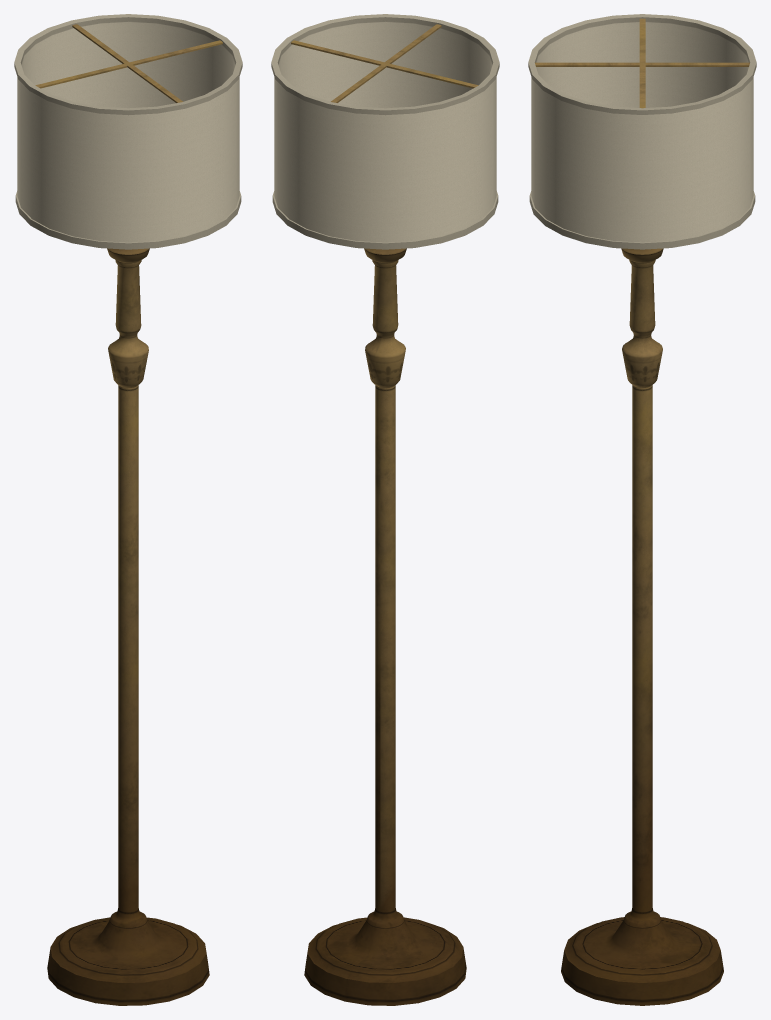
The model's file is LightFloorRetro02.FBX.
3 renders of one model, left to right at view 1: azimuth 30°, elevation 25°; view 2: azimuth 150°, elevation 25°; view 3: azimuth 270°, elevation 25°, orthographic.
Parts seen in each view (by area): view 1: LightFloorRetro02; view 2: LightFloorRetro02; view 3: LightFloorRetro02.
Part boxes in pixels (left/top/right/bottom): LightFloorRetro02: left=14, top=14, right=242, bottom=1005; LightFloorRetro02: left=271, top=14, right=499, bottom=1005; LightFloorRetro02: left=528, top=14, right=756, bottom=1005.
Bounding box in the file's own units: 340 × 1495 × 340.
